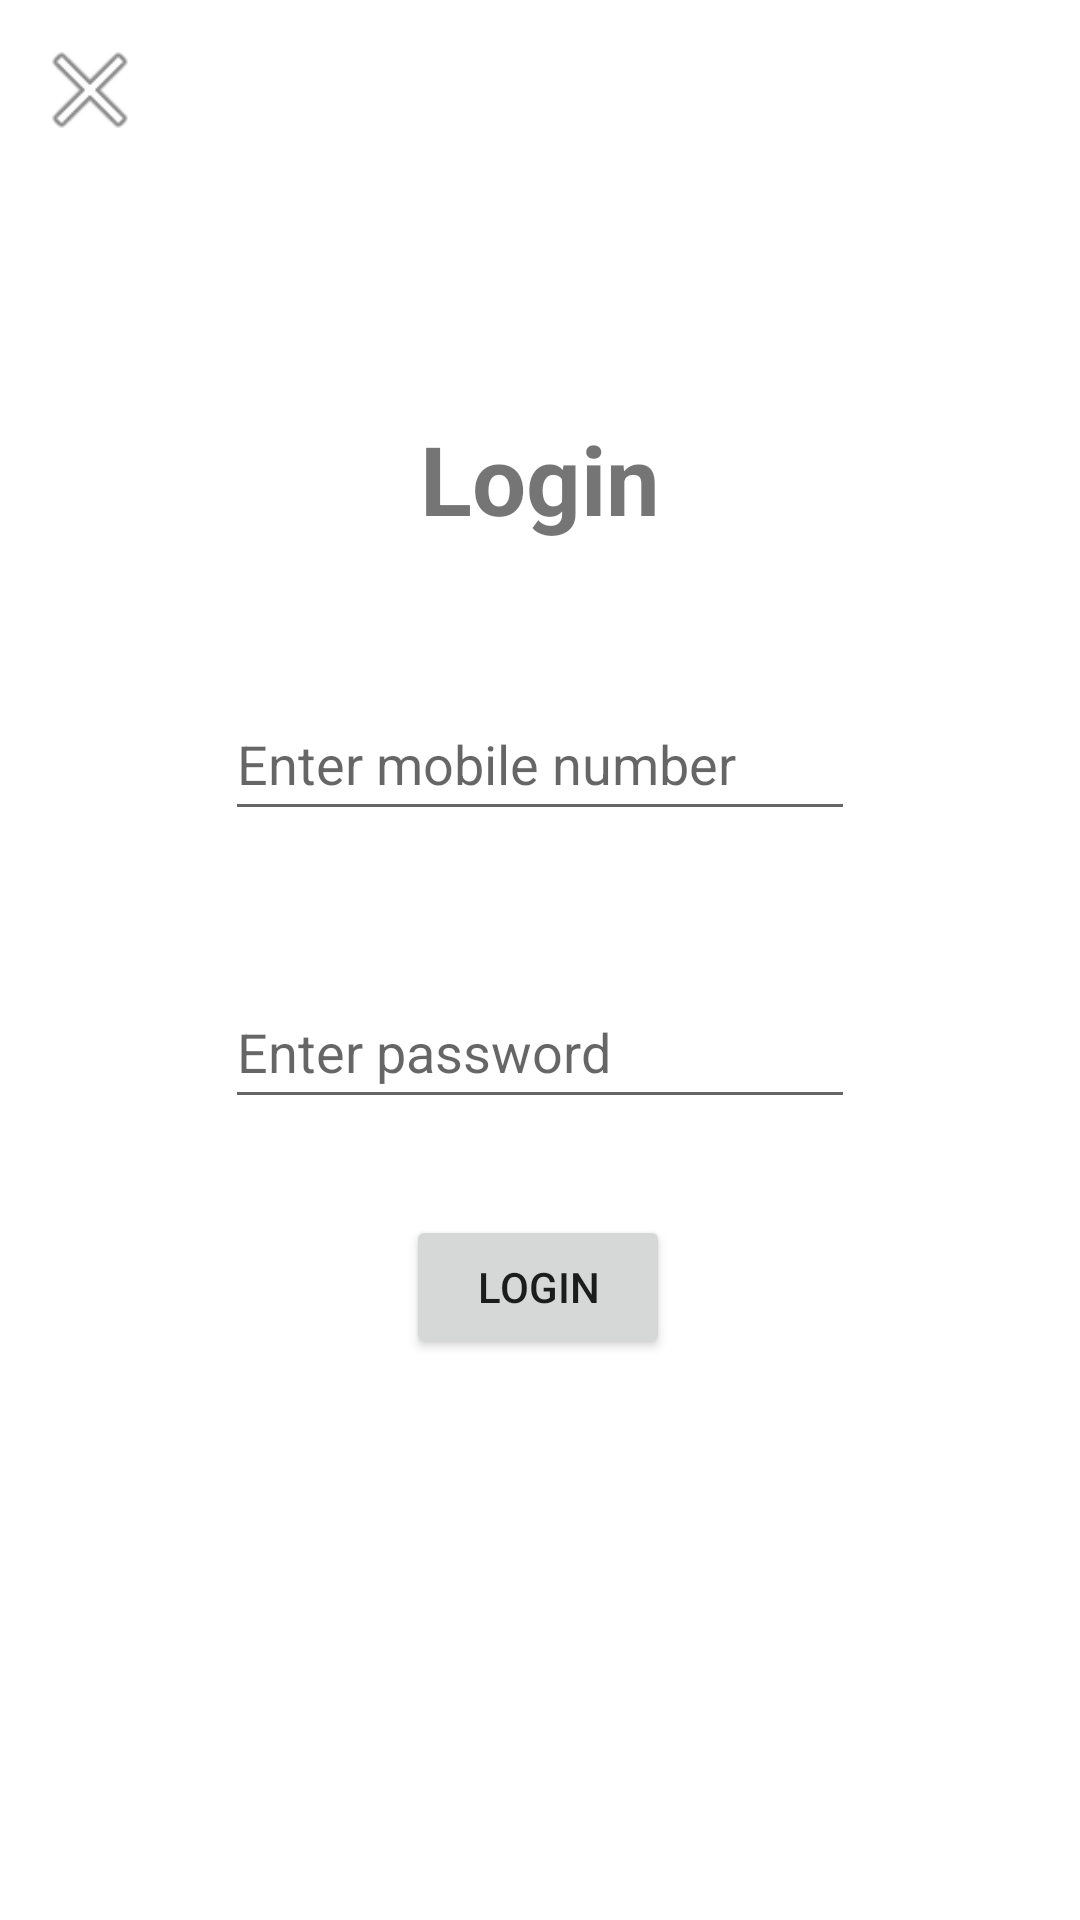

Icons on this 1080 × 1920 Android screen, each with its box as BBox(x1, y1, x2, y2):
close clear cancel: BBox(52, 52, 128, 128)
